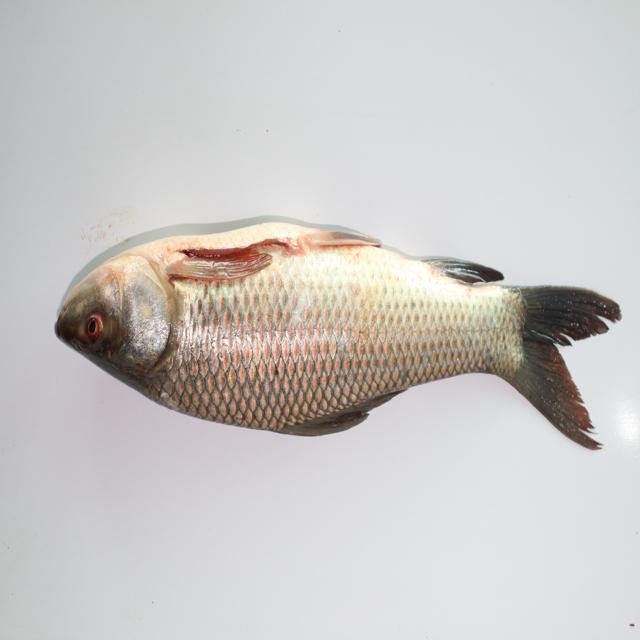Rohu: (56, 208, 629, 463)
